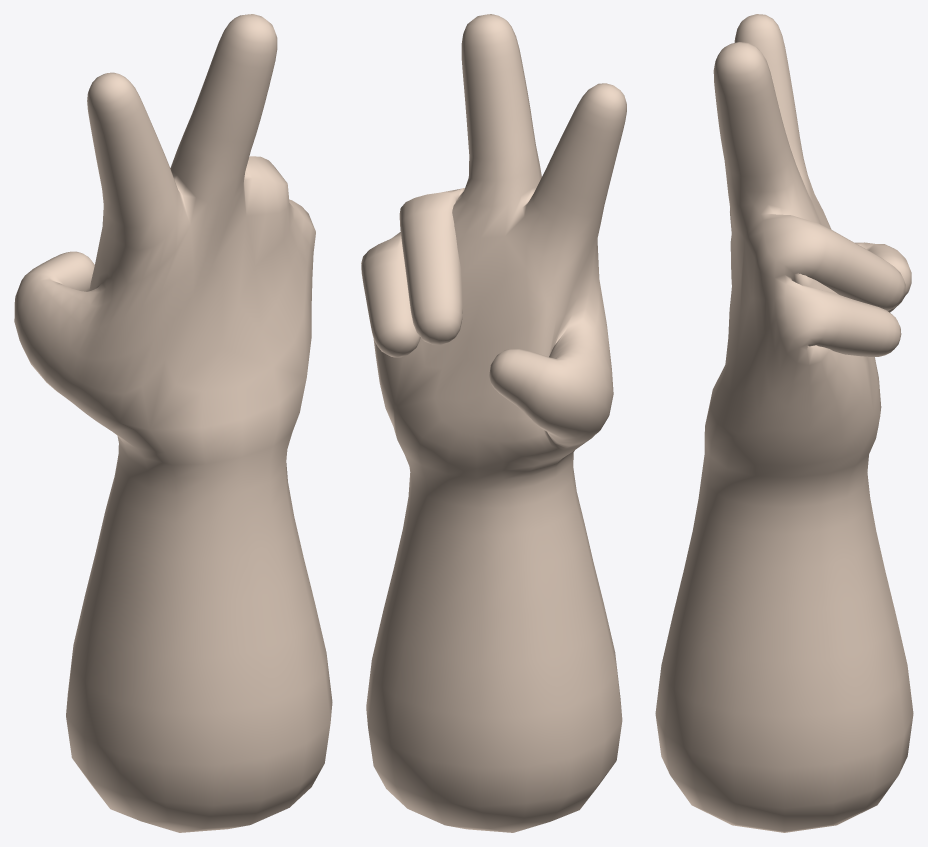
Rendered from Hand-Scissors.fbx.
The picture shows the model from 3 angles, left to right: view 1: azimuth 30°, elevation 25°; view 2: azimuth 150°, elevation 25°; view 3: azimuth 270°, elevation 25°; orthographic projection. The views are drawn at different scales.
Parts seen in each view (by area): view 1: hand2.001; view 2: hand2.001; view 3: hand2.001.
Boxes of the visible parts, x1,y1,x2,y2 form: hand2.001: (14,14,332,832); hand2.001: (361,14,626,832); hand2.001: (655,14,913,832).
Bounding box in the file's own units: 53.57 × 155 × 46.07.
